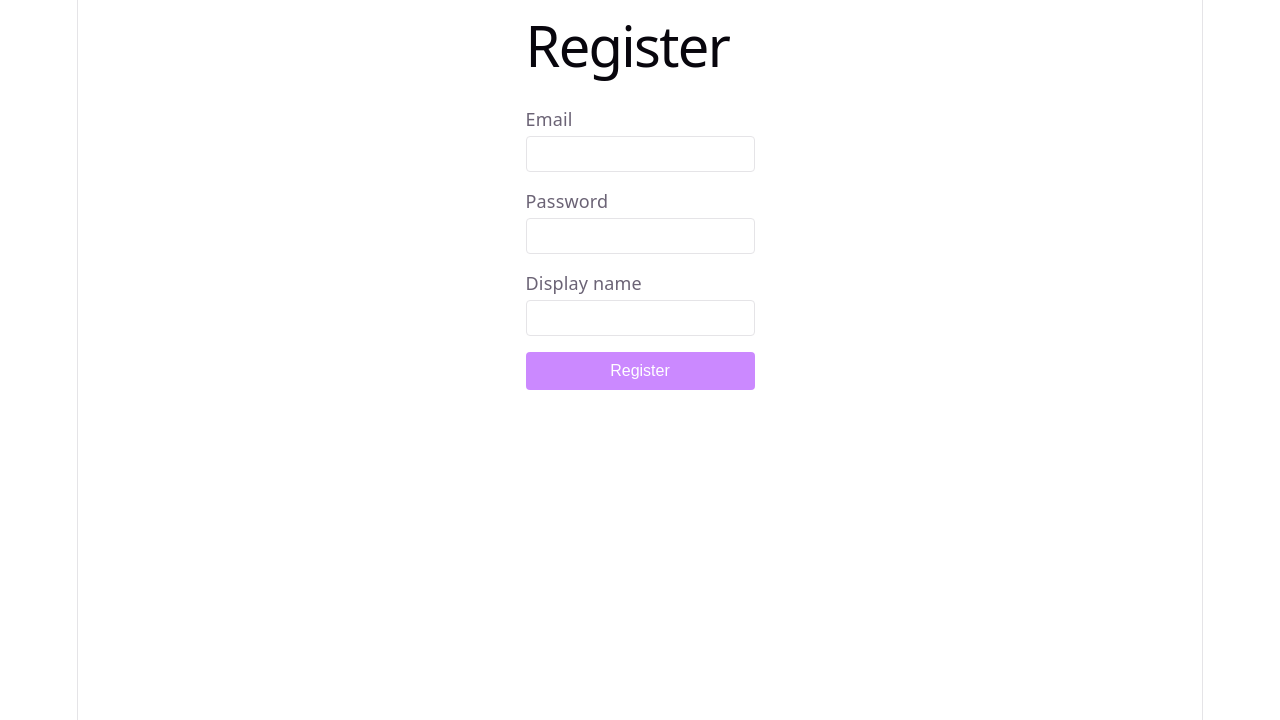
Test case: AUTH-002-AC-04: pending state while submitting › disables the submit button and shows a status indicator mid-request
This screenshot has width=1280, height=720.
Type "new@example.com" into the field labelled "Email" at (640, 154), box [526, 136, 754, 172]
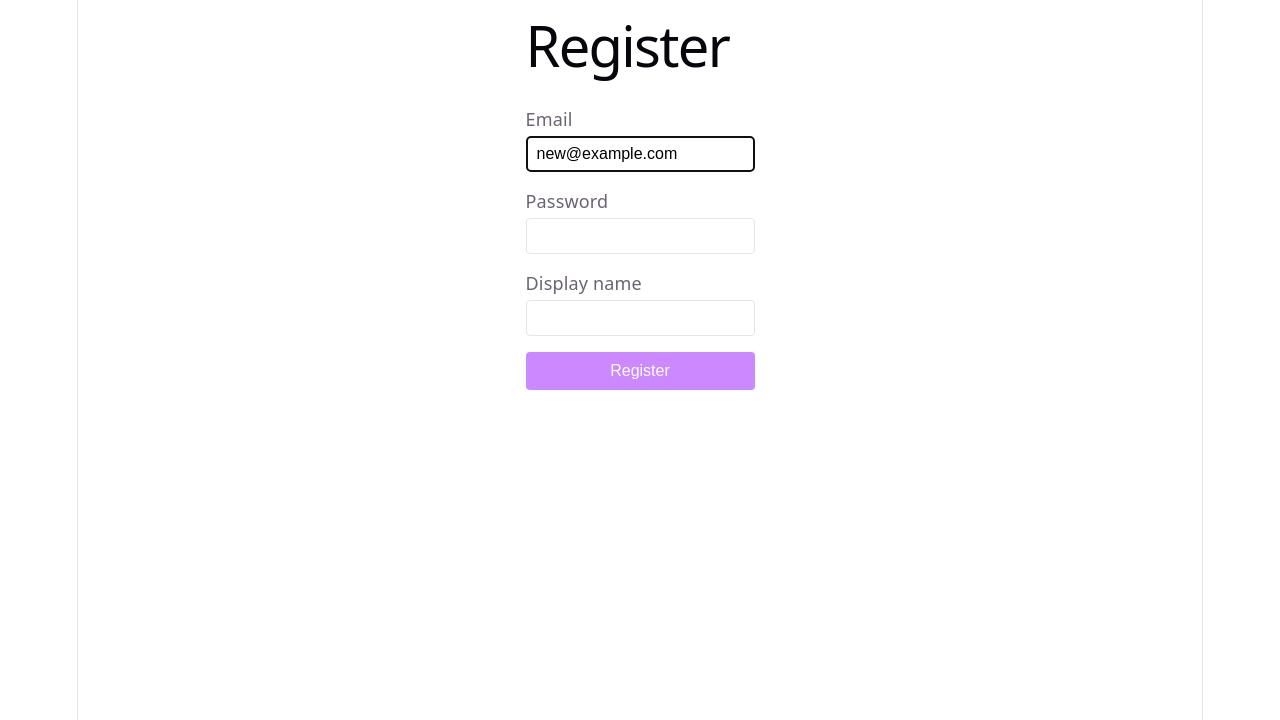
Type "a-long-enough-password" into the password field labelled "Password" at (640, 236), box [526, 218, 754, 254]
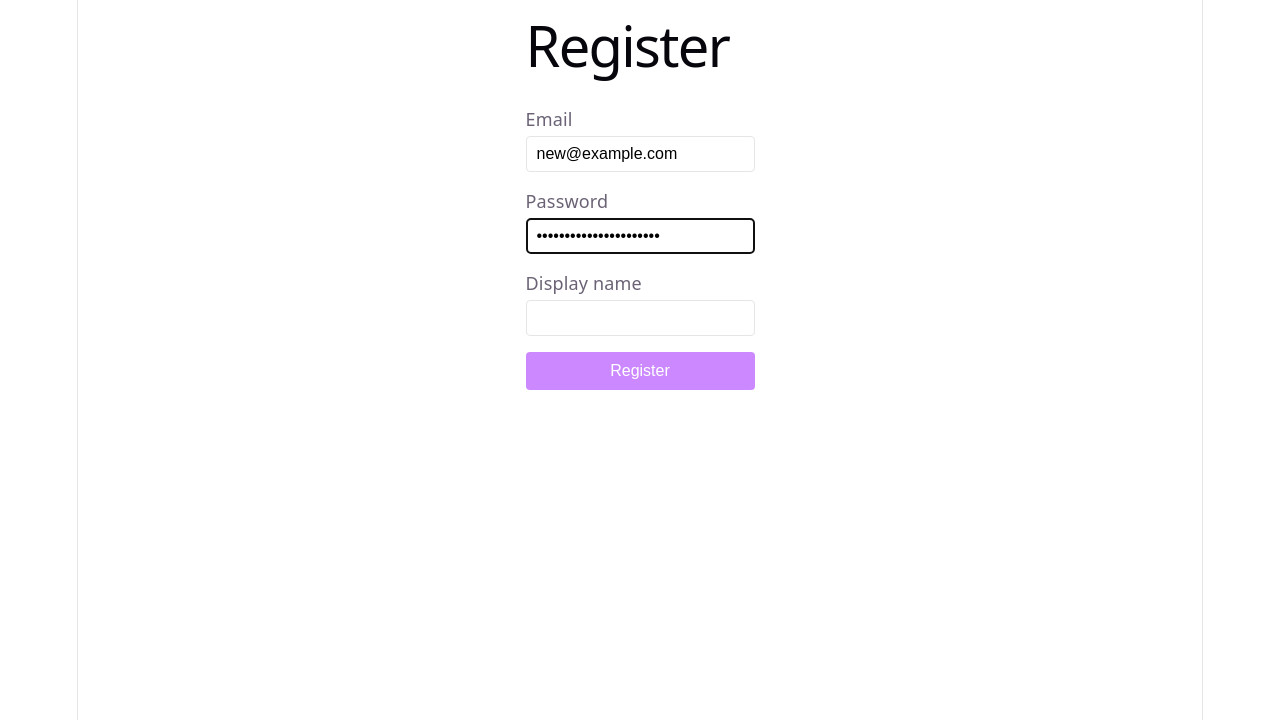
Type "Steve" into the field labelled "Display name" at (640, 318), box [526, 300, 754, 336]
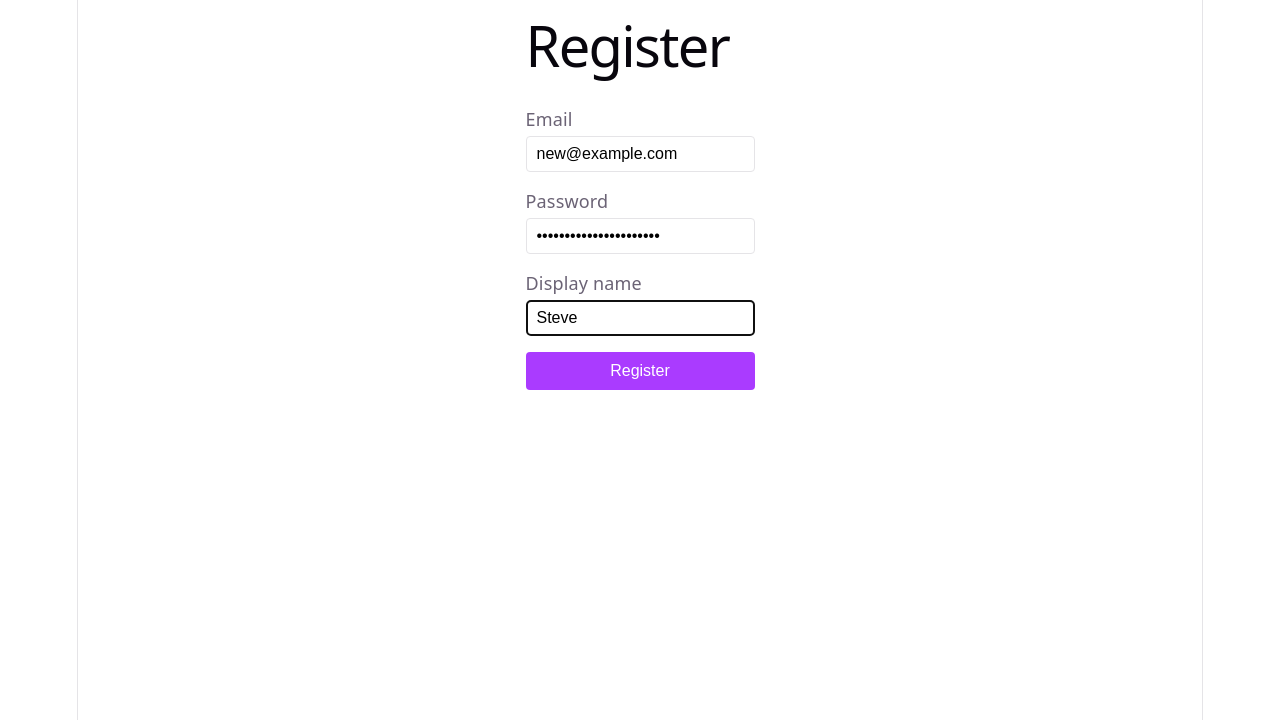
Click the button "Register" at (640, 371), box [526, 352, 754, 390]
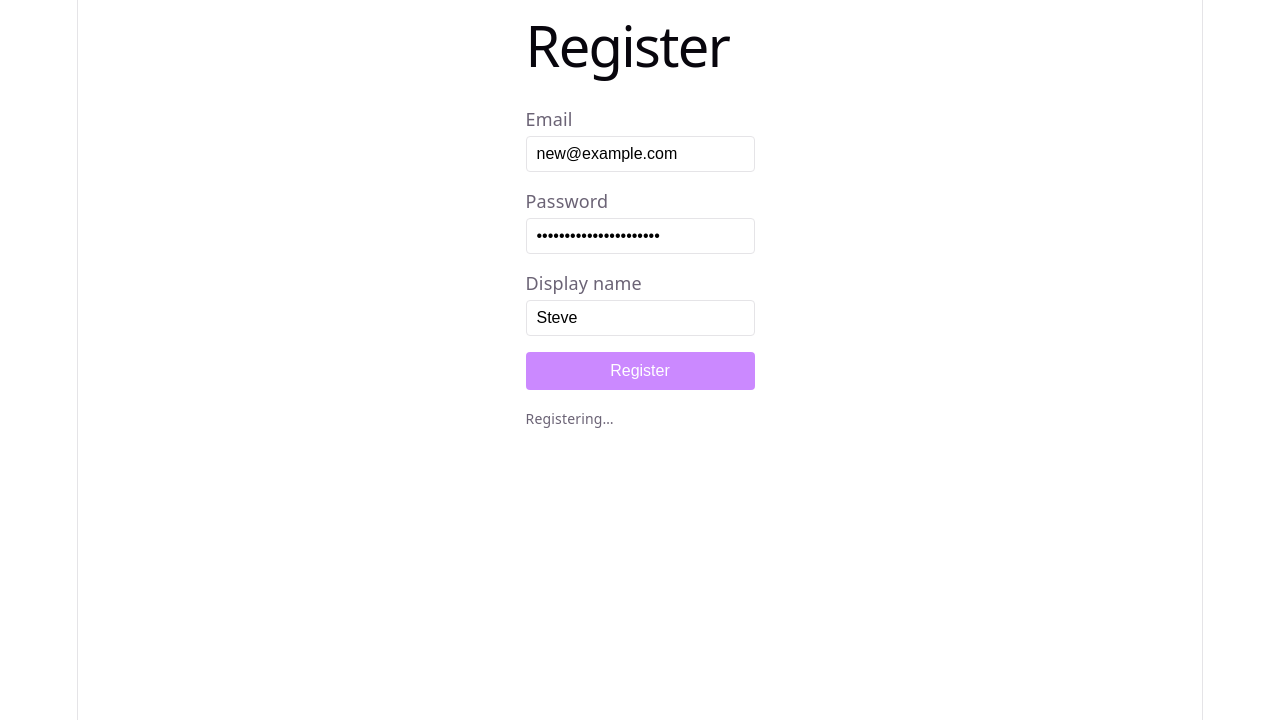
Expected: the button "Register" is disabled, [526, 352, 754, 390]
Expected: the message "Registering…" is shown, [526, 409, 614, 428]
